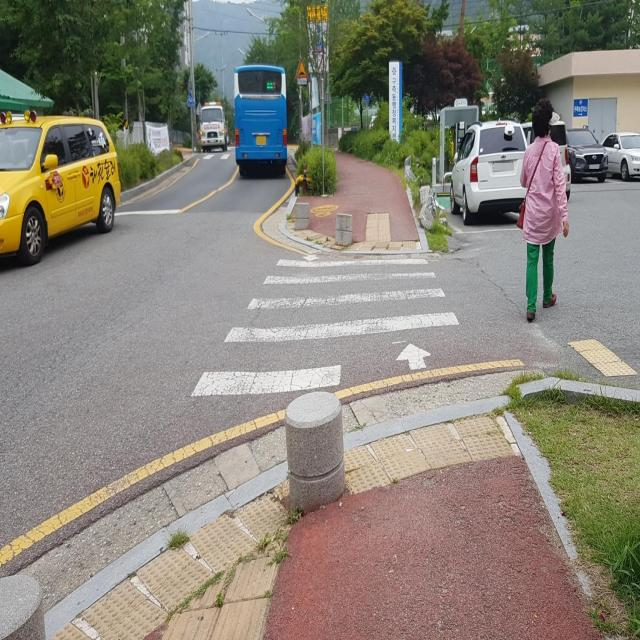횡단보도: (190, 247, 458, 401)
